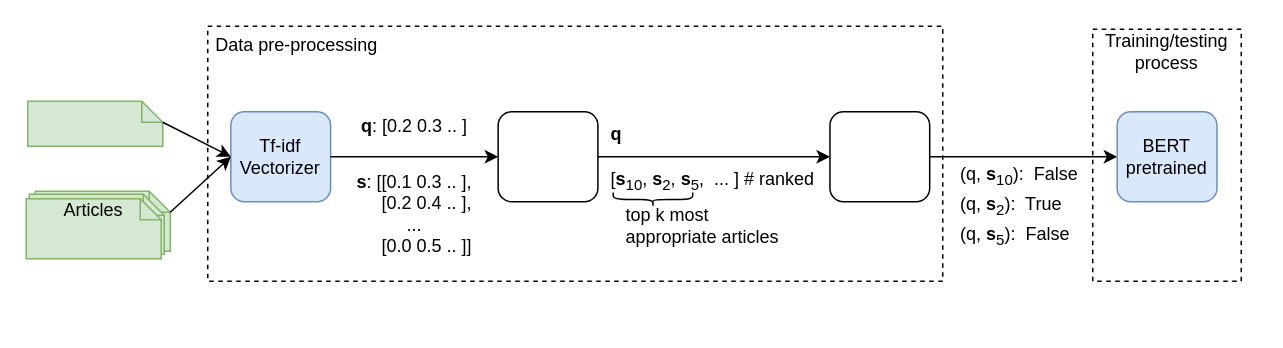
Image size: 1283x348. Some labels were removed from this diagram. Each missing label, with the box of its shape:
Cosine Similarity: (497, 110, 598, 202)
Data generator: (828, 110, 930, 202)
Question: (26, 100, 163, 146)
